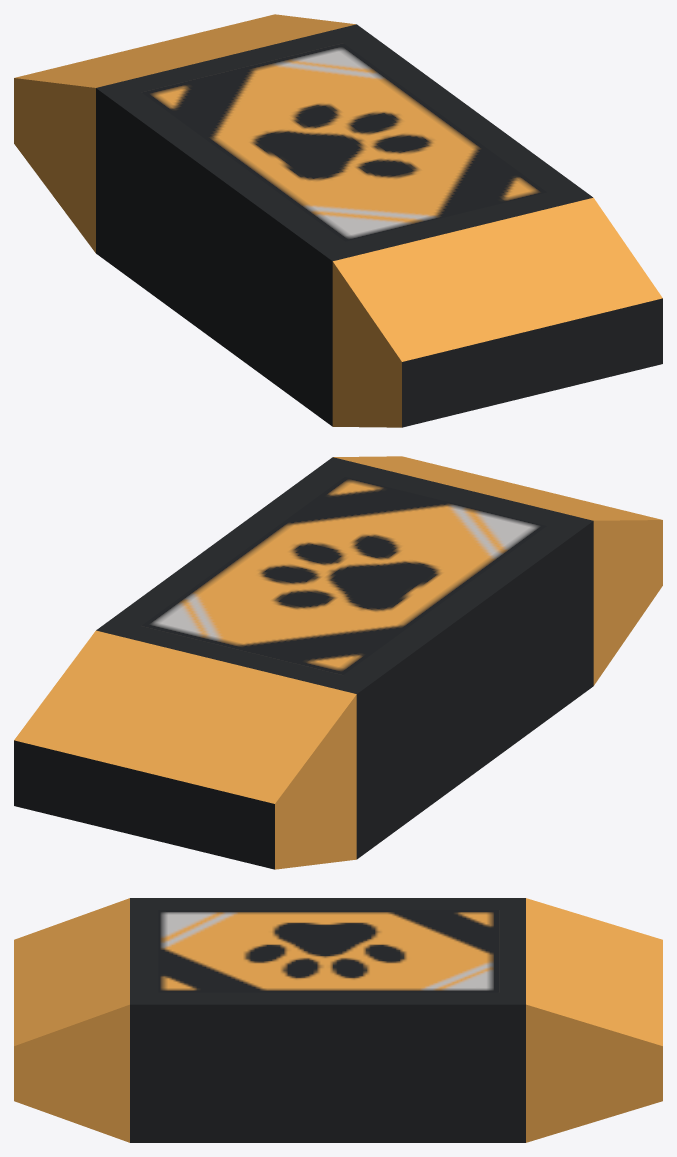
File: SM_Prop_Snack_05.fbx
The picture shows the model from 3 angles, top to bottom: view 1: azimuth 30°, elevation 25°; view 2: azimuth 150°, elevation 25°; view 3: azimuth 270°, elevation 25°; orthographic projection. The views are drawn at different scales.
Visible parts, largest first — view 1: SM_Prop_Snack_05; view 2: SM_Prop_Snack_05; view 3: SM_Prop_Snack_05.
Part boxes in pixels (<box>): SM_Prop_Snack_05: <box>14,14,662,427</box>; SM_Prop_Snack_05: <box>14,456,662,869</box>; SM_Prop_Snack_05: <box>14,898,662,1142</box>.
Size of the model in its own units: 11.2 by 6.79 by 28.85.
